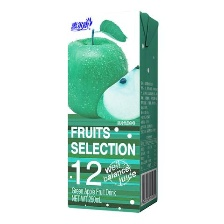carton: (62, 6, 161, 218)
